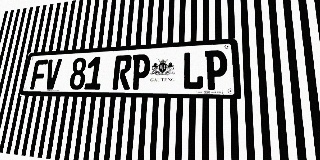1: (84, 56, 104, 90)
8: (68, 57, 88, 90)
F: (30, 59, 48, 90)
L: (182, 51, 204, 90)
P: (205, 50, 228, 90), (130, 54, 151, 90)
R: (112, 55, 132, 90)
V: (43, 59, 62, 90)
